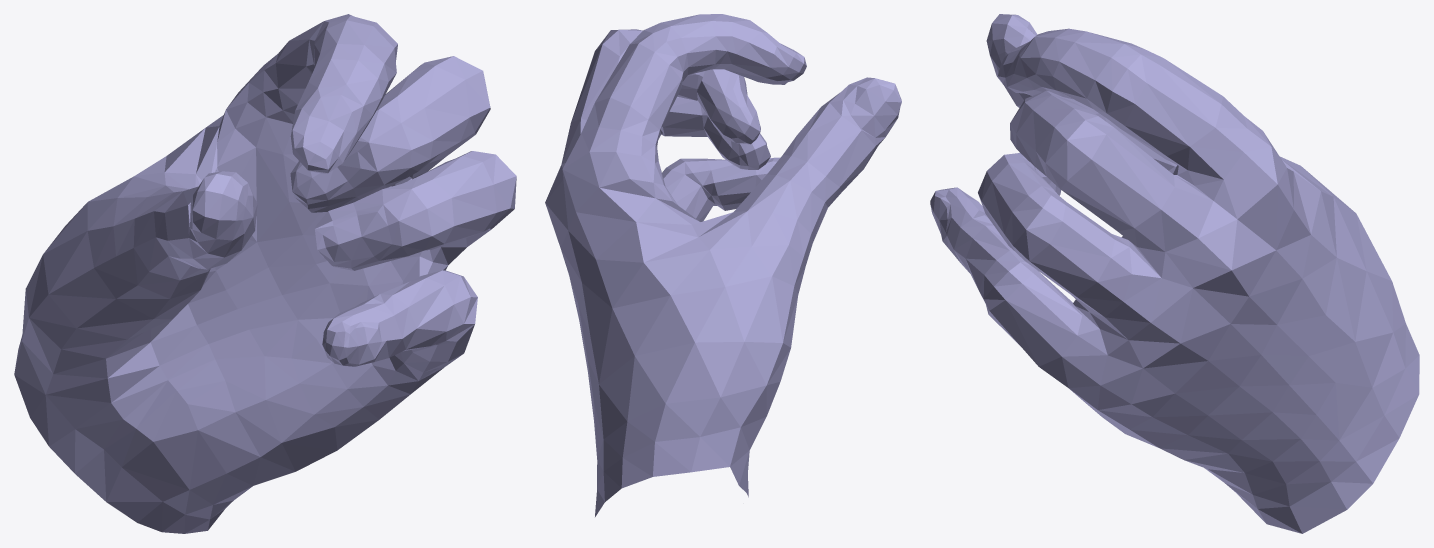
Rendered from hand_0085.glb.
3 renders of one model, left to right at view 1: azimuth 30°, elevation 25°; view 2: azimuth 150°, elevation 25°; view 3: azimuth 270°, elevation 25°, orthographic. The views are drawn at different scales.
Parts seen in each view (by area): view 1: world; view 2: world; view 3: world.
Boxes of the visible parts, bbox=[...] form: world: bbox=[14, 14, 516, 533]; world: bbox=[545, 14, 901, 516]; world: bbox=[930, 14, 1419, 533].
Size of the model in its own units: 0.0877 by 0.1344 by 0.1174.
